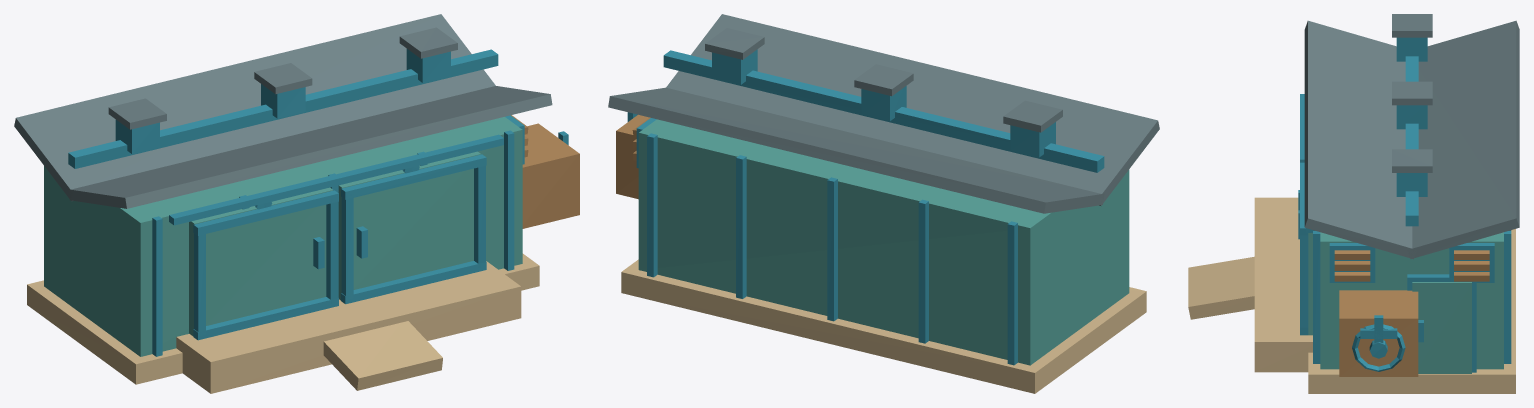
Rendered from Refrigerated-Warehouse.glb.
3 views of the same model, side by side, from view 1: azimuth 30°, elevation 25°; view 2: azimuth 150°, elevation 25°; view 3: azimuth 270°, elevation 25° (orthographic). The views are drawn at different scales.
Visible parts, largest first — view 1: refrigerated-warehouse-static-refrigerated-warehouse-insulat, refrigerated-warehouse-static-refrigerated-warehouse-galvani, refrigerated-warehouse-static-refrigerated-warehouse-dark-ir, refrigerated-warehouse-static-refrigerated-warehouse-stone-f, refrigerated-warehouse-static-refrigerated-warehouse-condens; view 2: refrigerated-warehouse-static-refrigerated-warehouse-insulat, refrigerated-warehouse-static-refrigerated-warehouse-galvani, refrigerated-warehouse-static-refrigerated-warehouse-dark-ir, refrigerated-warehouse-static-refrigerated-warehouse-stone-f, refrigerated-warehouse-static-refrigerated-warehouse-condens; view 3: refrigerated-warehouse-static-refrigerated-warehouse-galvani, refrigerated-warehouse-static-refrigerated-warehouse-stone-f, refrigerated-warehouse-static-refrigerated-warehouse-insulat, refrigerated-warehouse-static-refrigerated-warehouse-dark-ir, refrigerated-warehouse-static-refrigerated-warehouse-condens.
Part boxes in pixels (box(x1,y1,x2,y2)): refrigerated-warehouse-static-refrigerated-warehouse-insulat: box(44, 117, 522, 356); refrigerated-warehouse-static-refrigerated-warehouse-galvani: box(14, 14, 552, 208); refrigerated-warehouse-static-refrigerated-warehouse-dark-ir: box(68, 49, 568, 356); refrigerated-warehouse-static-refrigerated-warehouse-stone-f: box(27, 253, 539, 393); refrigerated-warehouse-static-refrigerated-warehouse-condens: box(511, 115, 579, 228); refrigerated-warehouse-static-refrigerated-warehouse-insulat: box(638, 119, 1129, 365); refrigerated-warehouse-static-refrigerated-warehouse-galvani: box(608, 14, 1159, 213); refrigerated-warehouse-static-refrigerated-warehouse-dark-ir: box(627, 49, 1104, 365); refrigerated-warehouse-static-refrigerated-warehouse-stone-f: box(621, 259, 1146, 393); refrigerated-warehouse-static-refrigerated-warehouse-condens: box(616, 114, 650, 199); refrigerated-warehouse-static-refrigerated-warehouse-galvani: box(1304, 14, 1519, 259); refrigerated-warehouse-static-refrigerated-warehouse-stone-f: box(1188, 197, 1515, 393); refrigerated-warehouse-static-refrigerated-warehouse-insulat: box(1308, 232, 1503, 373); refrigerated-warehouse-static-refrigerated-warehouse-dark-ir: box(1298, 37, 1511, 372); refrigerated-warehouse-static-refrigerated-warehouse-condens: box(1334, 250, 1489, 376).
Size of the model in its own units: 4.42 by 1.94 by 2.78.
